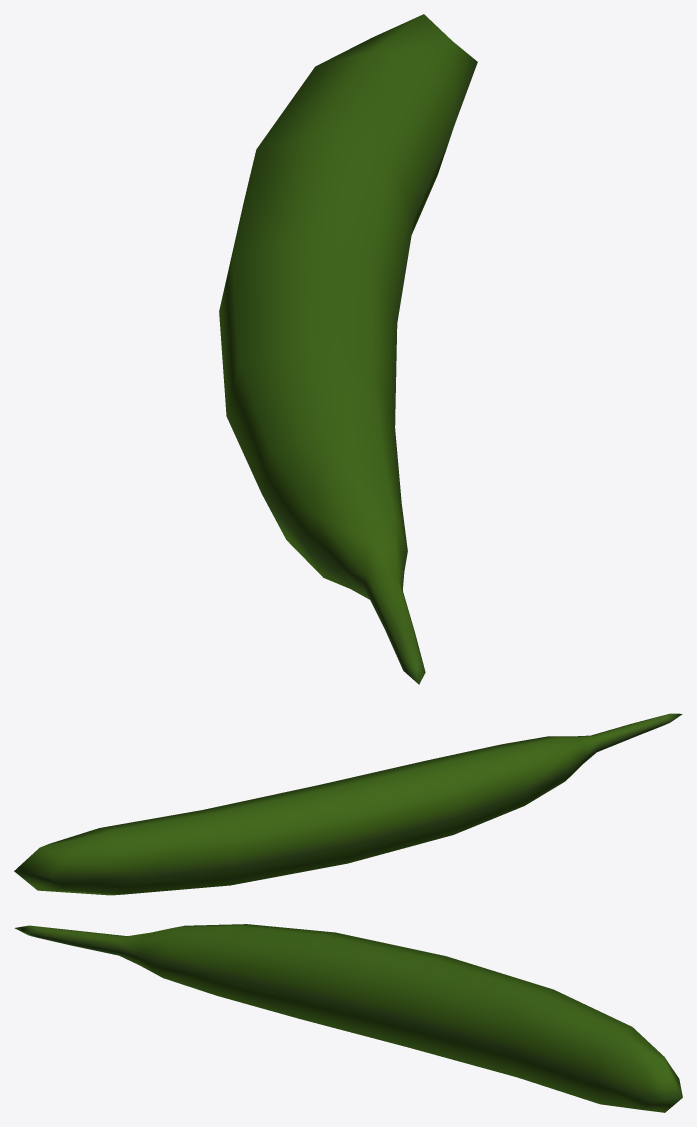
The model's file is GreenBean (2).fbx.
The picture shows the model from 3 angles, top to bottom: view 1: azimuth 30°, elevation 25°; view 2: azimuth 150°, elevation 25°; view 3: azimuth 270°, elevation 25°; orthographic projection. The views are drawn at different scales.
Parts seen in each view (by area): view 1: Apple (4); view 2: Apple (4); view 3: Apple (4).
Boxes of the visible parts, x1,y1,x2,y2 form: Apple (4): [219, 14, 477, 684]; Apple (4): [14, 713, 682, 895]; Apple (4): [14, 924, 682, 1112].
Bounding box in the file's own units: 0.8002 × 0.1772 × 1.33.
